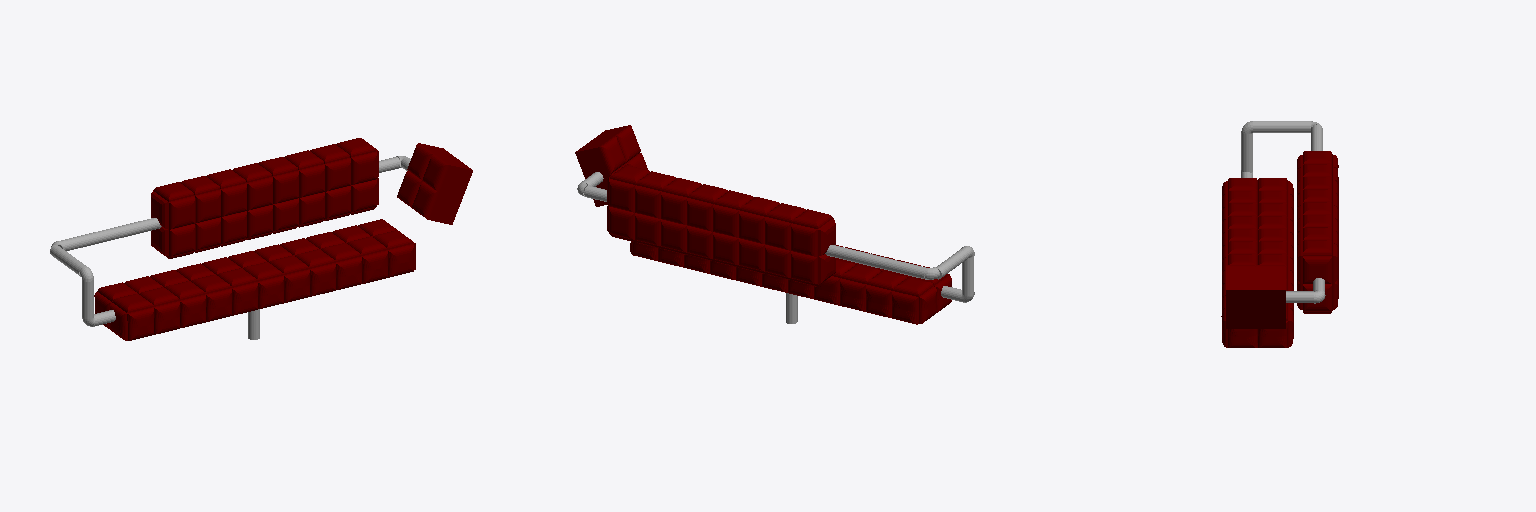
File: 80s-couch.obj
The picture shows the model from 3 angles: view 1: azimuth 30°, elevation 25°; view 2: azimuth 150°, elevation 25°; view 3: azimuth 270°, elevation 25°; orthographic projection.
Visible parts, largest first — view 1: Box2, Box, Box1, Cylinder; view 2: Box, Box2, Box1, Cylinder; view 3: Box2, Box, Box1, Cylinder2.
Part boxes in pixels (x1,y1,x2,y2): Box2: (94, 219, 415, 340); Box: (151, 138, 378, 258); Box1: (397, 143, 472, 224); Cylinder: (58, 218, 161, 250); Box: (607, 165, 835, 286); Box2: (630, 241, 951, 324); Box1: (575, 125, 648, 206); Cylinder: (825, 245, 926, 279); Box2: (1221, 178, 1293, 347); Box: (1297, 151, 1338, 313); Box1: (1226, 265, 1285, 328); Cylinder2: (1253, 121, 1310, 132).
Bounding box in the file's own units: 7.32 × 2.6 × 1.95.